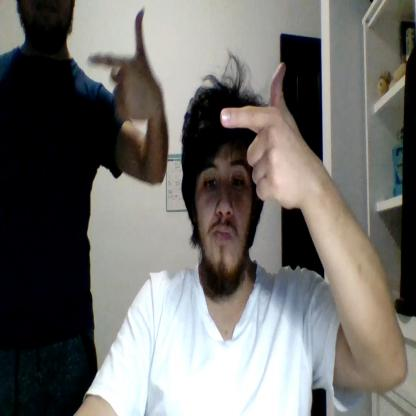G: (220, 63, 302, 207), (87, 7, 152, 119)
